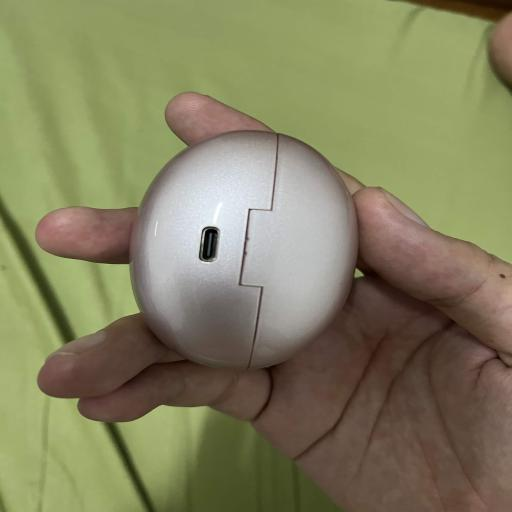GOOJODOQ: (130, 131, 357, 369)
